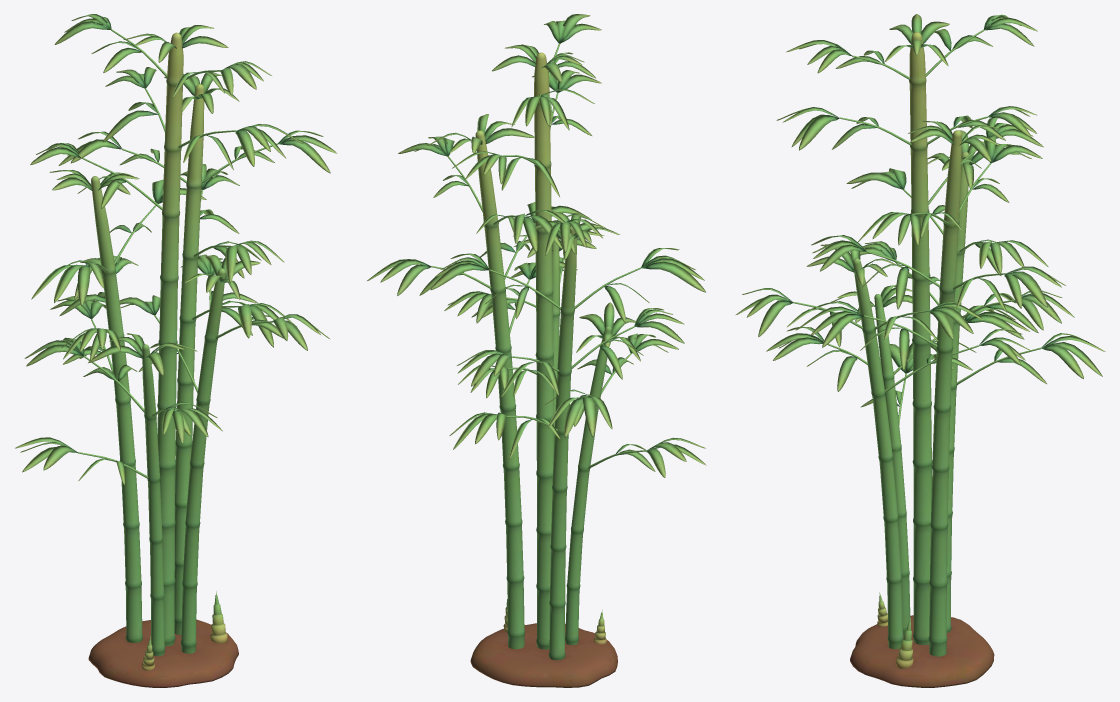
The model's file is bamboo.glb.
The picture shows the model from 3 angles, left to right: view 1: azimuth 30°, elevation 25°; view 2: azimuth 150°, elevation 25°; view 3: azimuth 270°, elevation 25°; orthographic projection. The views are drawn at different scales.
Visible parts, largest first — view 1: bamboo-stalk_body; view 2: bamboo-stalk_body; view 3: bamboo-stalk_body.
Boxes of the visible parts, bbox=[...] form: bamboo-stalk_body: bbox=[15, 14, 336, 687]; bamboo-stalk_body: bbox=[367, 14, 706, 687]; bamboo-stalk_body: bbox=[735, 14, 1105, 687].
Bounding box in the file's own units: 1.11 × 2.14 × 1.14.
Materials: 1 (1 with a texture image).
